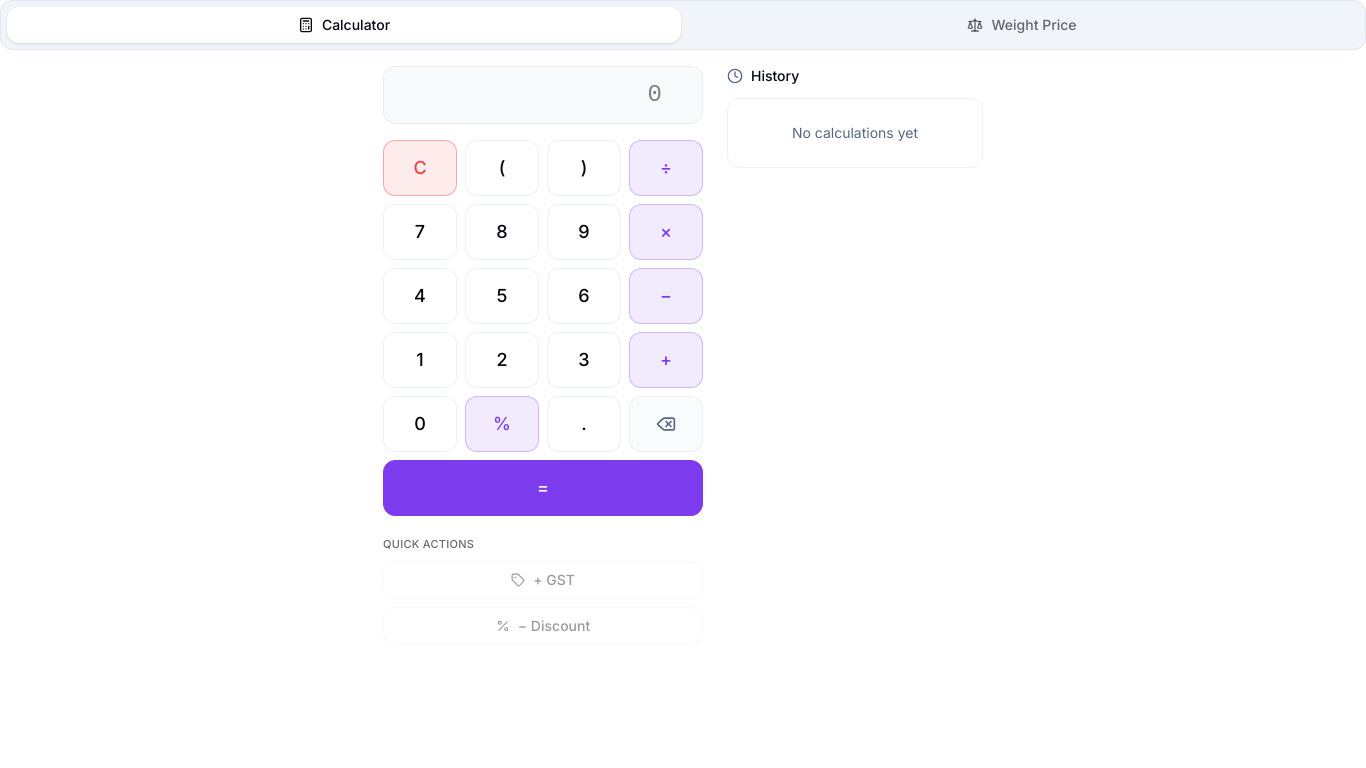
it: BasicCalculator › evaluates 3 + 4 = 7
Click the button "3". click: (584, 360)
box: [547, 332, 621, 388]
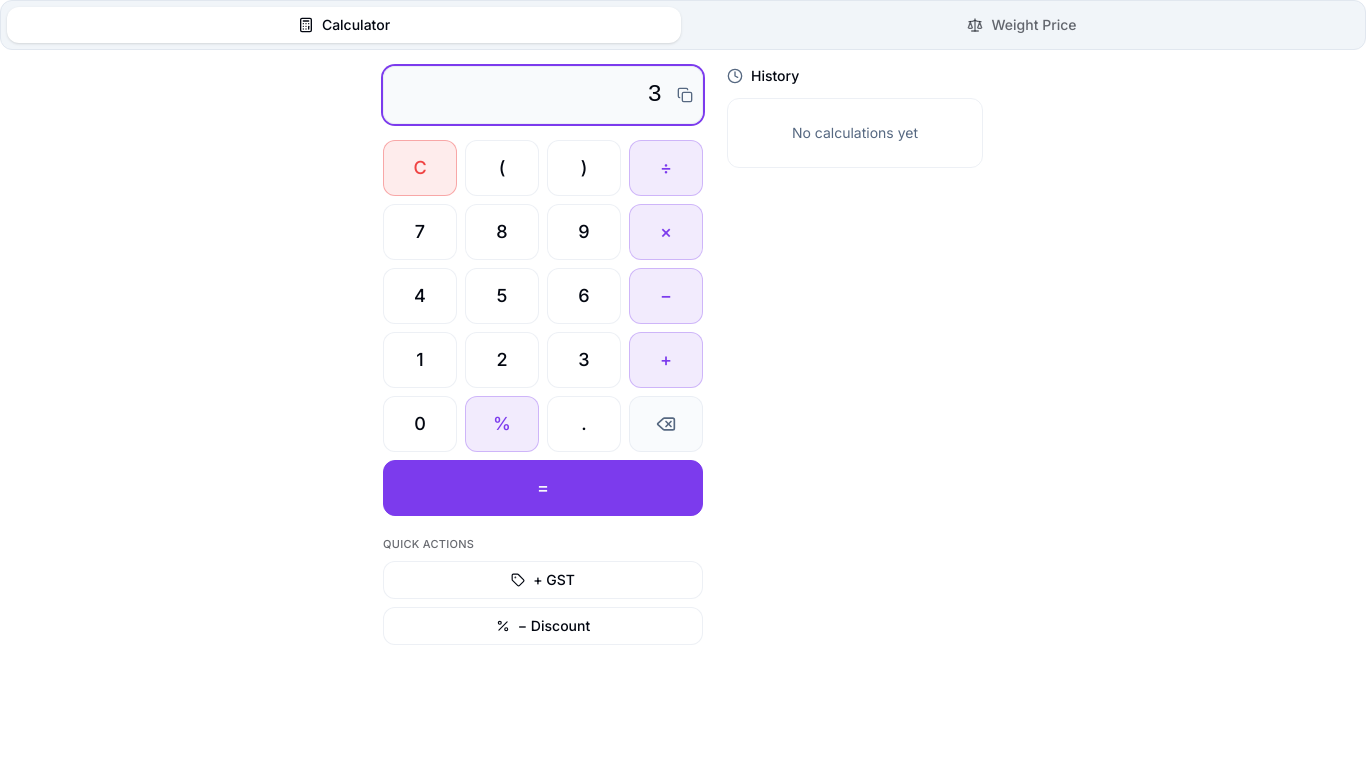
Click the button "+". click: (666, 360)
box: [629, 332, 703, 388]
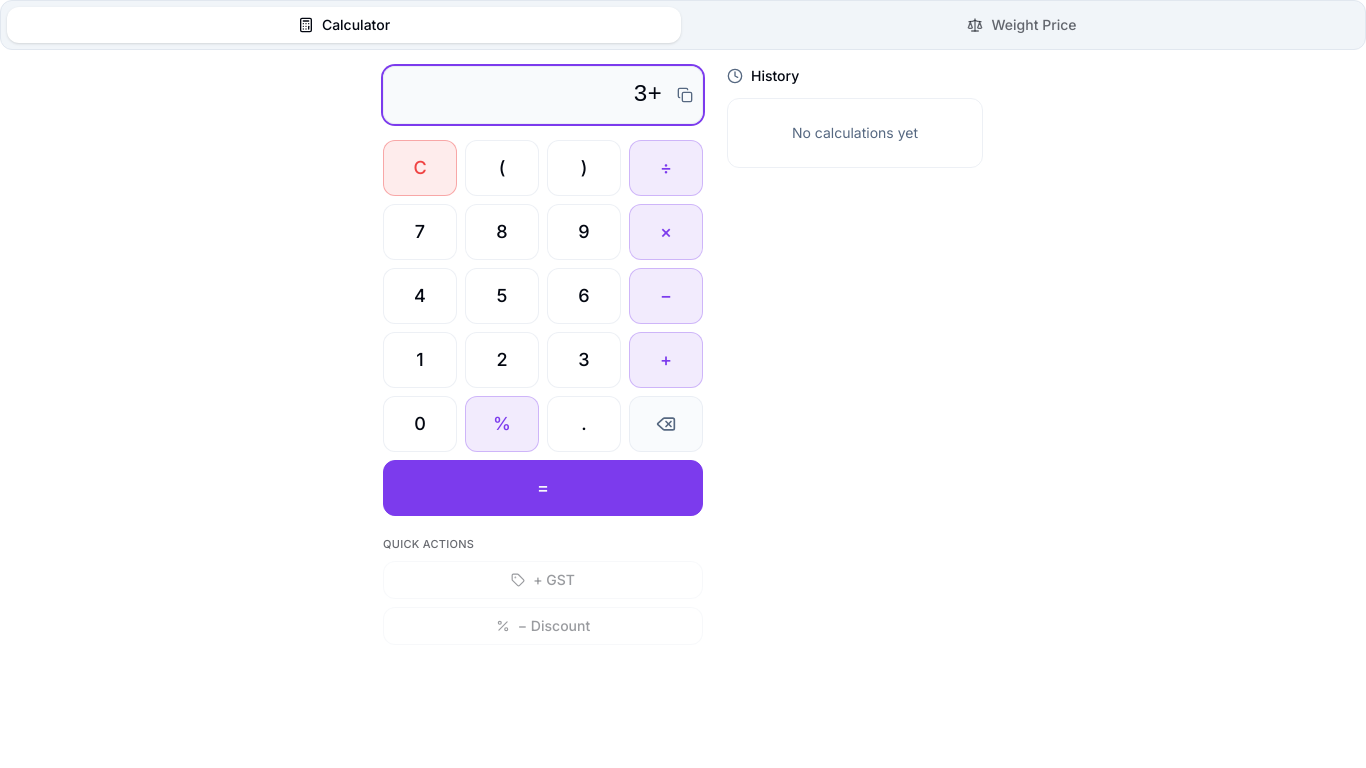
Click the button "4". click: (420, 296)
box: [383, 268, 457, 324]
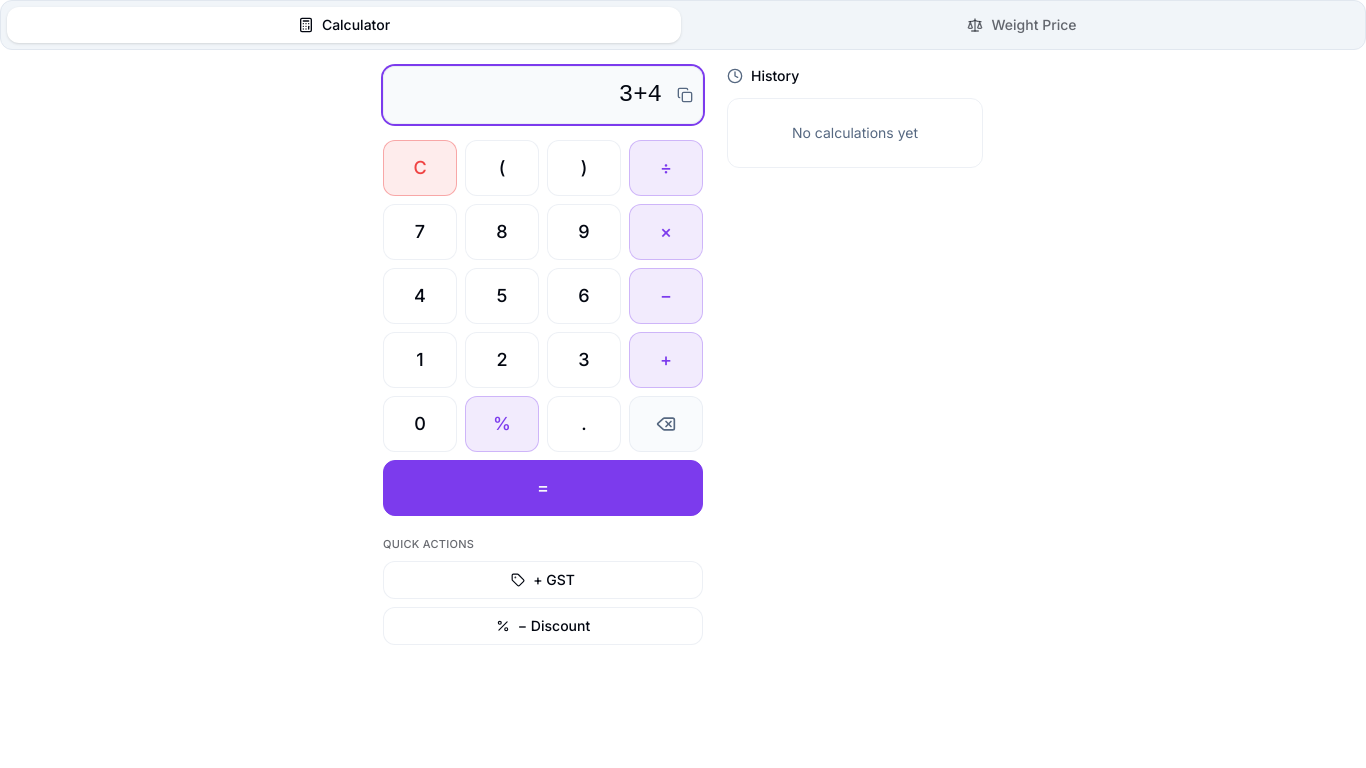
Click the button named "Equals". click: (543, 488)
box: [383, 460, 703, 516]
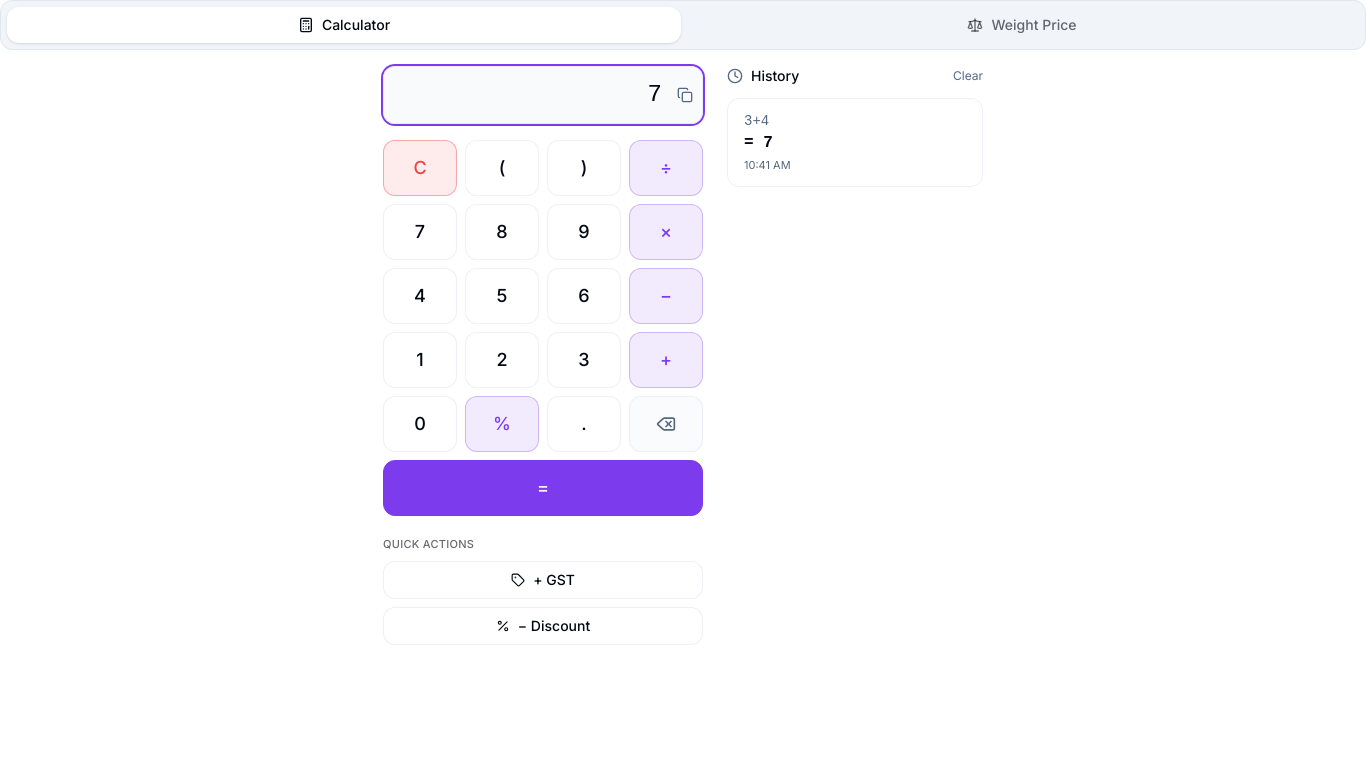
expect the field named "Expression" holds "7": met, box [383, 66, 703, 124]
